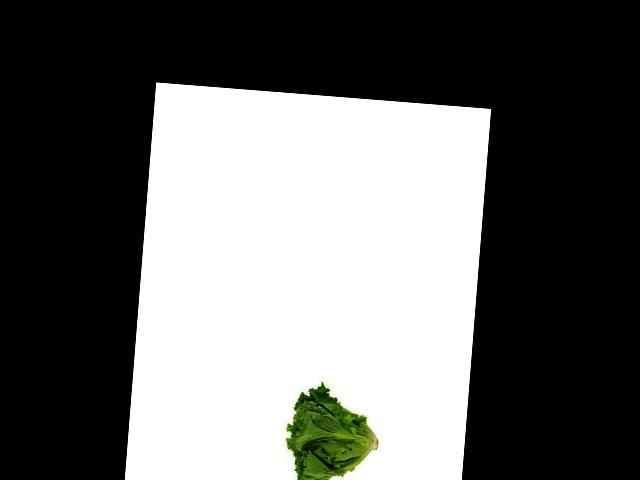lettuce: (277, 385, 396, 480)
